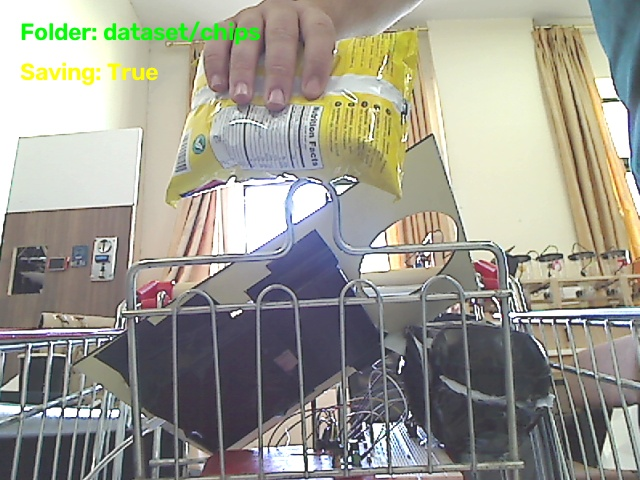chips: (166, 31, 417, 204)
